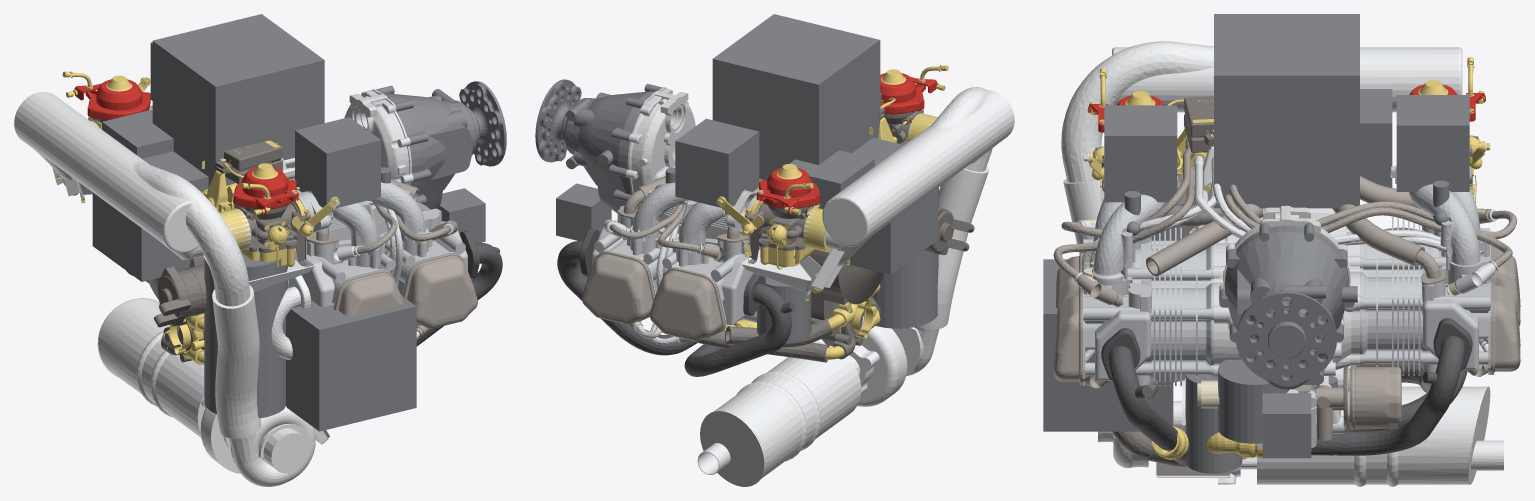
Rendered from rotax_914.glb.
The picture shows the model from 3 angles, left to right: view 1: azimuth 30°, elevation 25°; view 2: azimuth 150°, elevation 25°; view 3: azimuth 270°, elevation 25°; orthographic projection. The views are drawn at different scales.
Parts seen in each view (by area): view 1: Airbox_Filter.001, Rotax914_Turbo_Compressor_6, Oil_Cooler.001, Rotax914_Turbo_Compressor_15, Rotax914_Prop_Flange.001, Carburettor_1, Rotax914_Turbo_Compressor_7, Rotax914_Turbo_Compressor_44, Oil_Tank, TCU_Control_Unit, Rotax914_Plumbing_Exhaust_50, Turbocharger_Exhaust_Plumbing (+18 smaller); view 2: Airbox_Filter.001, Rotax914_Turbo_Compressor_6, Rotax914_Turbo_Compressor_15, Rotax914_Prop_Flange.001, Carburettor_2, TCU_Control_Unit, Rotax914_Crankcase_Block, Rotax914_Turbo_Compressor_7, Rotax914_Plumbing_Exhaust_51, Rotax914_Plumbing_Exhaust_52, Rotax914_Starter_Motor_10, Oil_Tank (+25 smaller); view 3: Airbox_Filter.001, Rotax914_Turbo_Compressor_6, Rotax914_Turbo_Compressor_15, Cylinder_Barrel_1.001, Cylinder_Barrel_2.001, Rotax914_Prop_Flange.001, Rotax914_Prop_Flange, Carburettor_2, Carburettor_1, Oil_Cooler.001, Rotax914_Crankcase_Block, Rotax914_Starter_Motor_13 (+40 smaller).
Boxes of the visible parts, bbox=[...] form: Airbox_Filter.001: bbox=[152, 14, 324, 187]; Rotax914_Turbo_Compressor_6: bbox=[14, 92, 314, 306]; Oil_Cooler.001: bbox=[286, 283, 416, 431]; Rotax914_Turbo_Compressor_15: bbox=[97, 298, 205, 437]; Rotax914_Prop_Flange.001: bbox=[376, 85, 479, 209]; Carburettor_1: bbox=[295, 117, 380, 208]; Rotax914_Turbo_Compressor_7: bbox=[200, 404, 328, 486]; Rotax914_Turbo_Compressor_44: bbox=[212, 285, 261, 438]; Oil_Tank: bbox=[204, 252, 287, 418]; TCU_Control_Unit: bbox=[92, 151, 220, 281]; Rotax914_Plumbing_Exhaust_50: bbox=[403, 253, 477, 328]; Turbocharger_Exhaust_Plumbing: bbox=[90, 77, 339, 350]; Airbox_Filter.001: bbox=[712, 14, 880, 180]; Rotax914_Turbo_Compressor_6: bbox=[741, 87, 1014, 295]; Rotax914_Turbo_Compressor_15: bbox=[697, 342, 872, 486]; Rotax914_Prop_Flange.001: bbox=[561, 83, 662, 213]; Carburettor_2: bbox=[675, 118, 759, 207]; TCU_Control_Unit: bbox=[844, 137, 938, 274]; Rotax914_Crankcase_Block: bbox=[626, 87, 768, 322]; Rotax914_Turbo_Compressor_7: bbox=[813, 316, 939, 406]; Rotax914_Plumbing_Exhaust_51: bbox=[649, 267, 724, 341]; Rotax914_Plumbing_Exhaust_52: bbox=[582, 251, 654, 324]; Rotax914_Starter_Motor_10: bbox=[684, 273, 794, 376]; Oil_Tank: bbox=[863, 187, 938, 328]; Airbox_Filter.001: bbox=[1214, 14, 1359, 208]; Rotax914_Turbo_Compressor_6: bbox=[1061, 41, 1473, 228]; Rotax914_Turbo_Compressor_15: bbox=[1236, 386, 1503, 486]; Cylinder_Barrel_1.001: bbox=[1083, 267, 1213, 386]; Cylinder_Barrel_2.001: bbox=[1360, 257, 1490, 375]; Rotax914_Prop_Flange.001: bbox=[1219, 223, 1357, 389]; Rotax914_Prop_Flange: bbox=[1236, 289, 1337, 384]; Carburettor_2: bbox=[1396, 95, 1469, 191]; Carburettor_1: bbox=[1104, 105, 1177, 202]; Oil_Cooler.001: bbox=[1043, 259, 1173, 431]; Rotax914_Crankcase_Block: bbox=[1188, 205, 1359, 433]; Rotax914_Starter_Motor_13: bbox=[1311, 318, 1472, 455].
Size of the model in its own units: 662 by 608 by 588.
